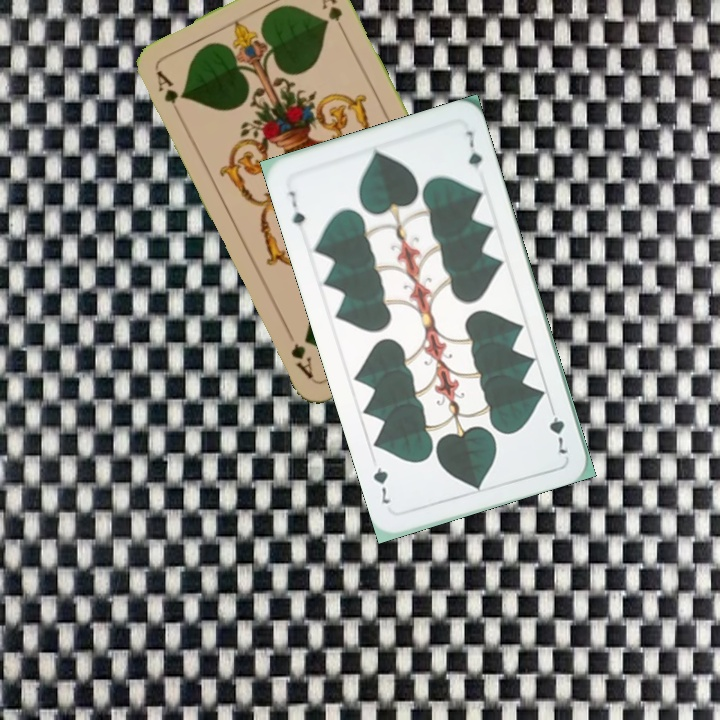G7: (545, 400, 571, 457), (284, 187, 308, 229)
GA: (152, 66, 185, 122)
